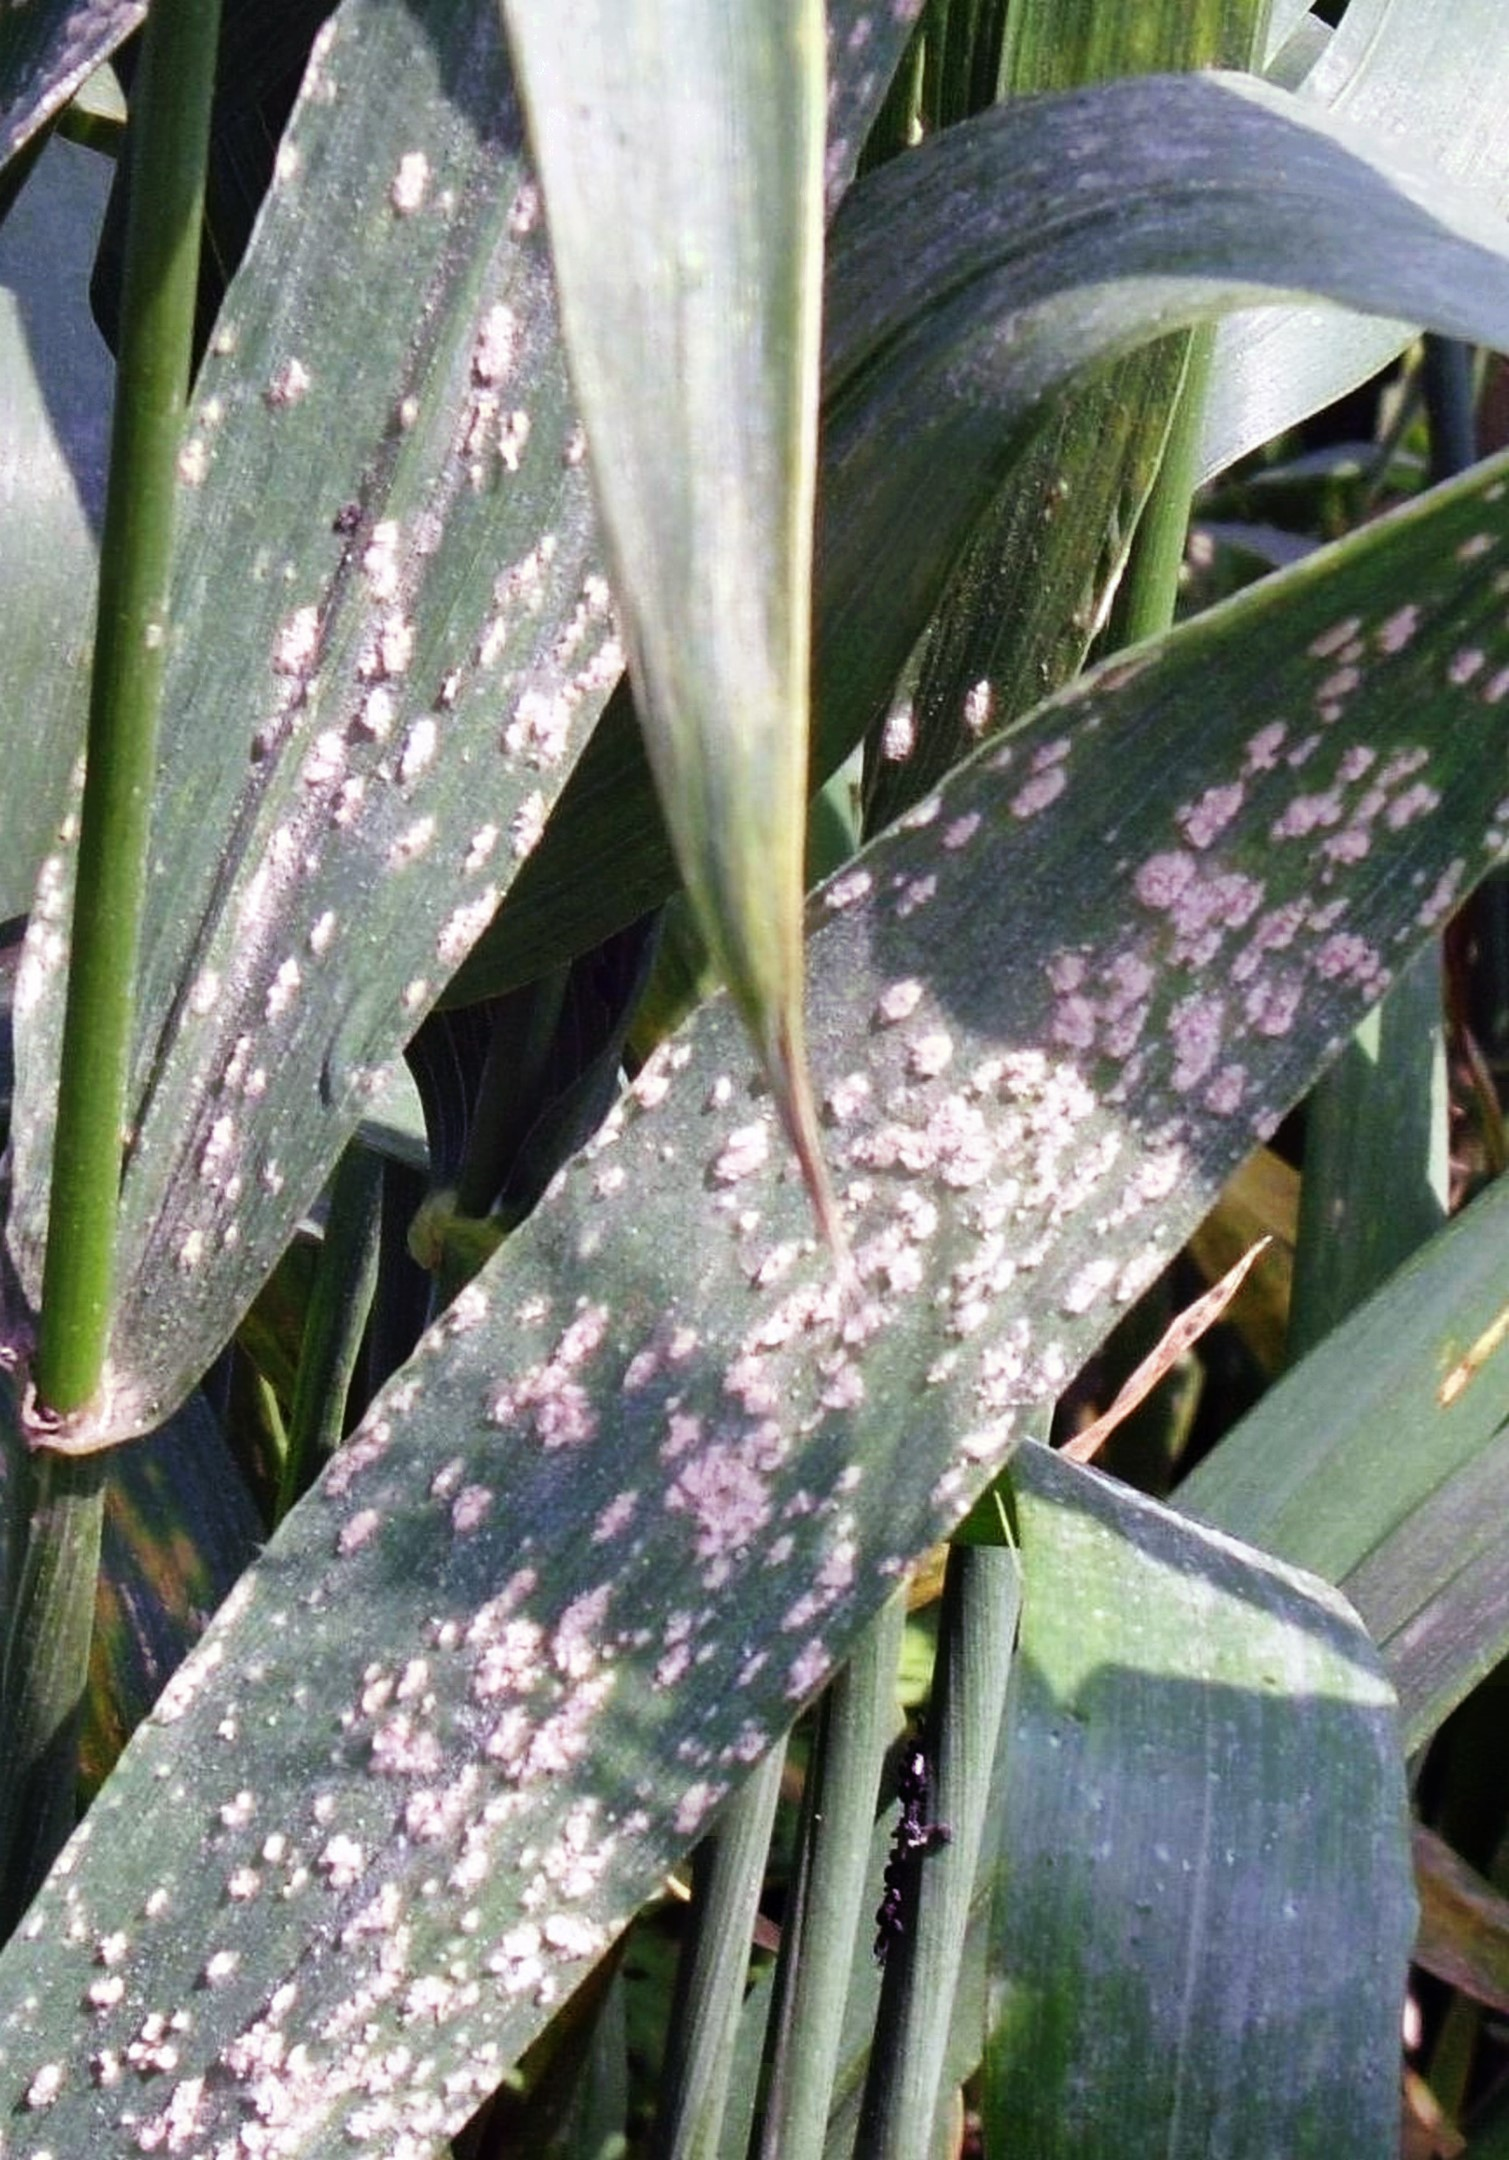Powdery Mildew: (218, 668, 1455, 2048)
